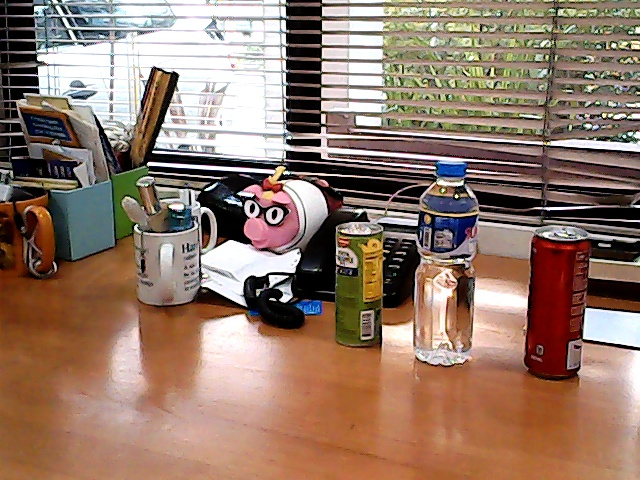Cola: (507, 208, 604, 392)
Pine Juice: (319, 212, 395, 360)
Summit Water: (399, 146, 491, 376)
